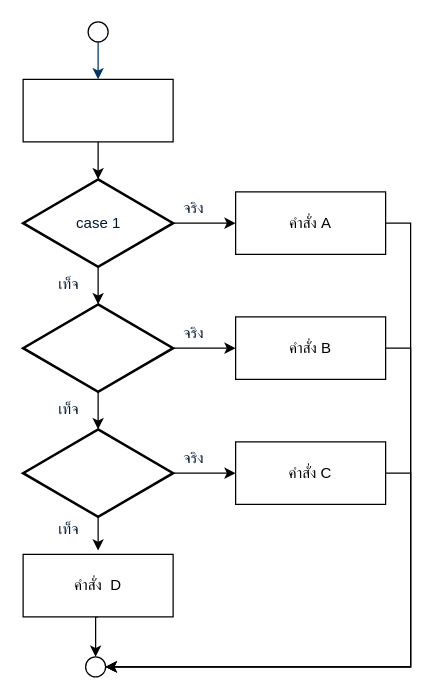
This 443x699 diagram has some shape labels left out. The centre of each missing label's shape, as x and y in pixels:
case 2: the point at 97,347
case 3: the point at 97,473
กำหนดเงื่อนไข ที่จะใช้เพื่อตรวจสอบ: the point at 97,110
